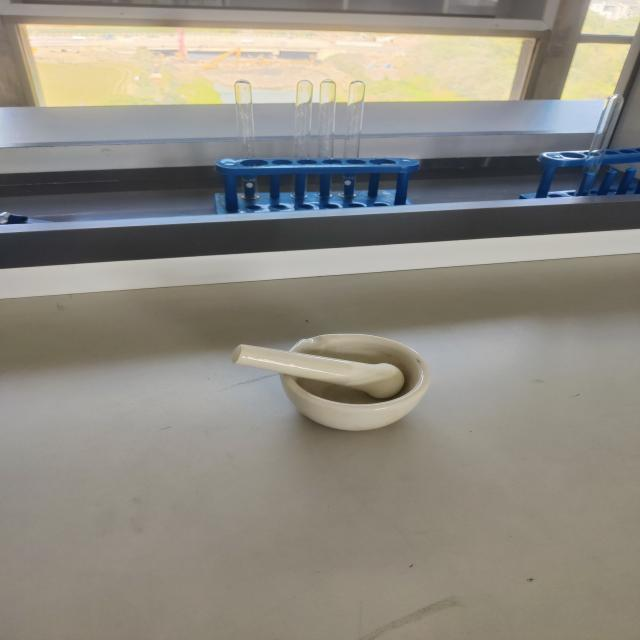Porcelain_Mortar Pestle: (201, 293, 458, 450)
